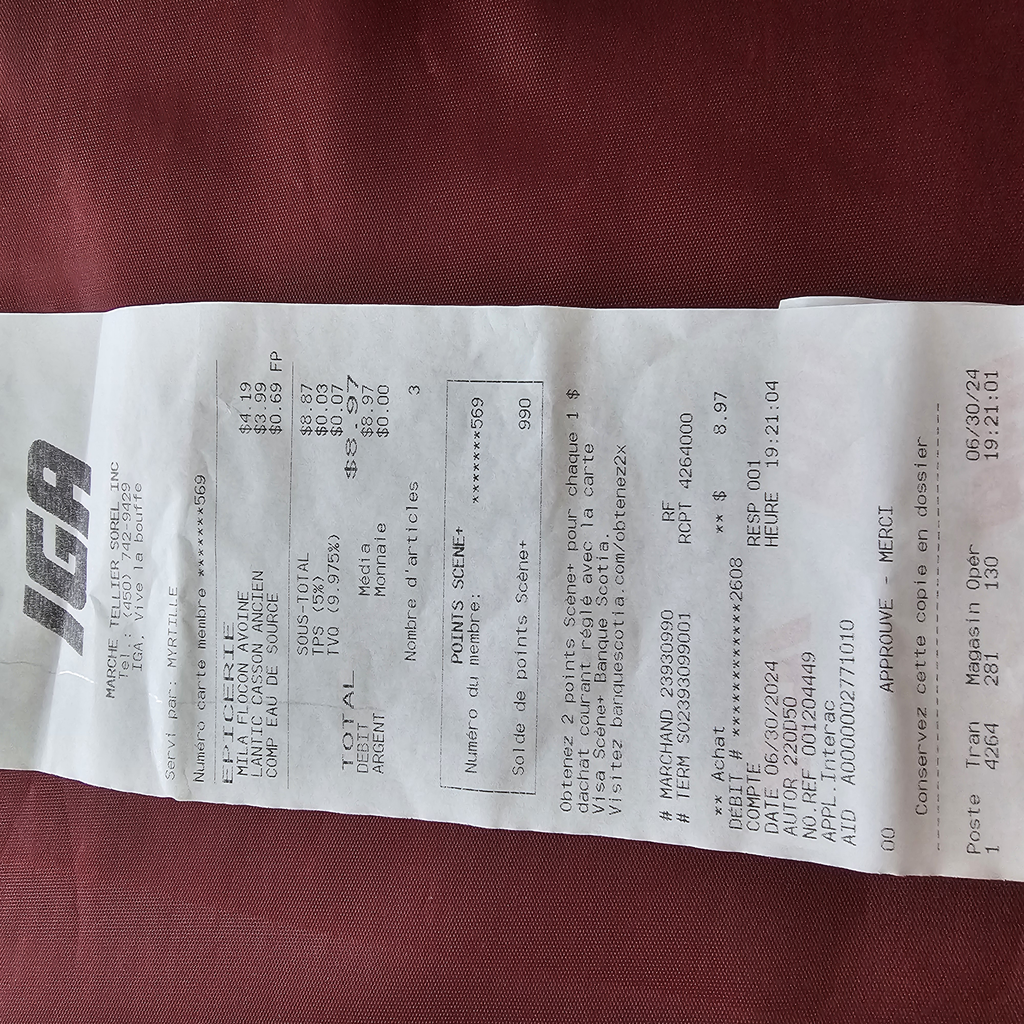recipt: (2, 293, 1020, 879)
